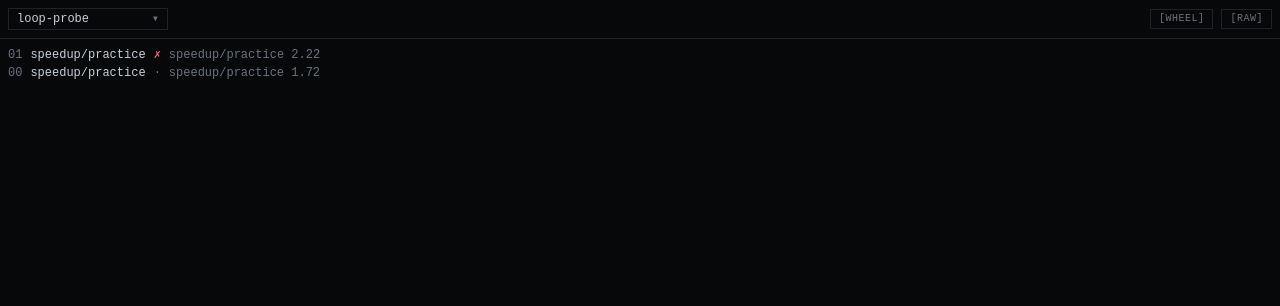
it: FlywheelPane round detail — comparability › still renders a baseline round as unknown
Click the button "00 speedup/practice · speedup/practice 1.72".
click(88, 73)  # box [8,65,1272,81]
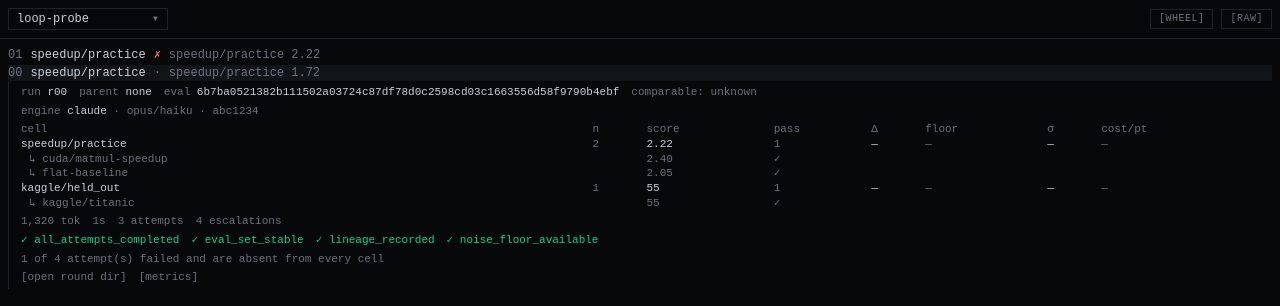
Now the text "comparable: unknown" is shown, box [631,85,757,100]
